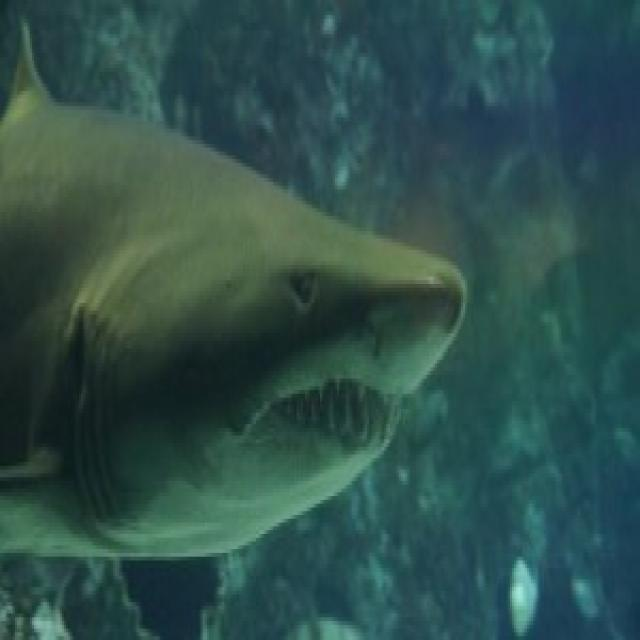Shark: (0, 0, 478, 568)
